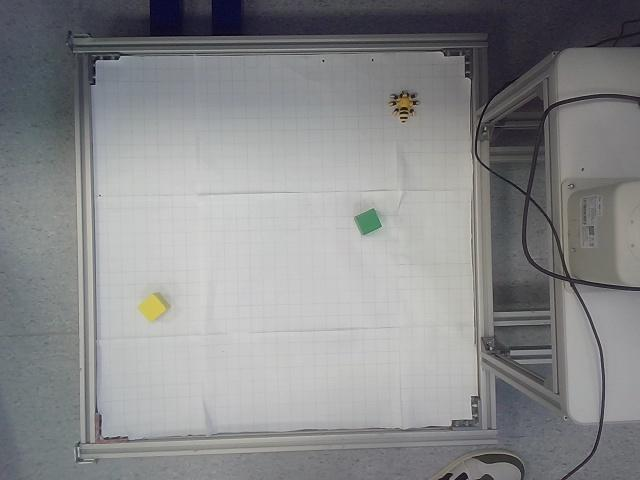frelon: (388, 91, 421, 124)
